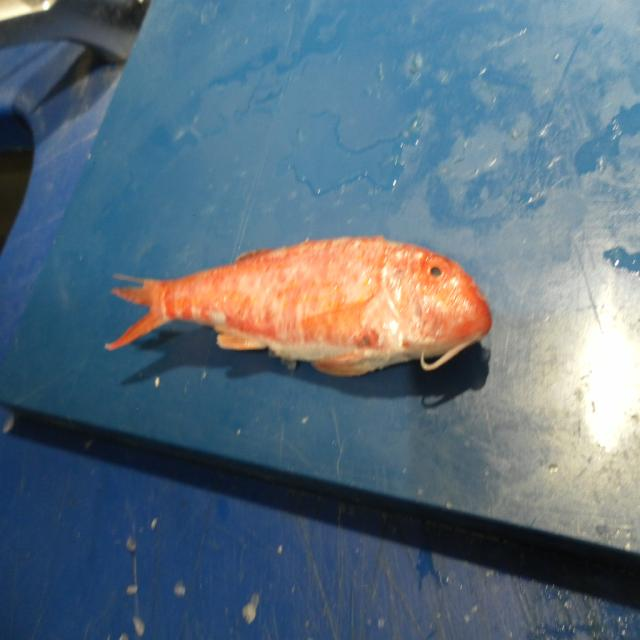Red-Mullet-kefal-: (109, 237, 493, 380)
